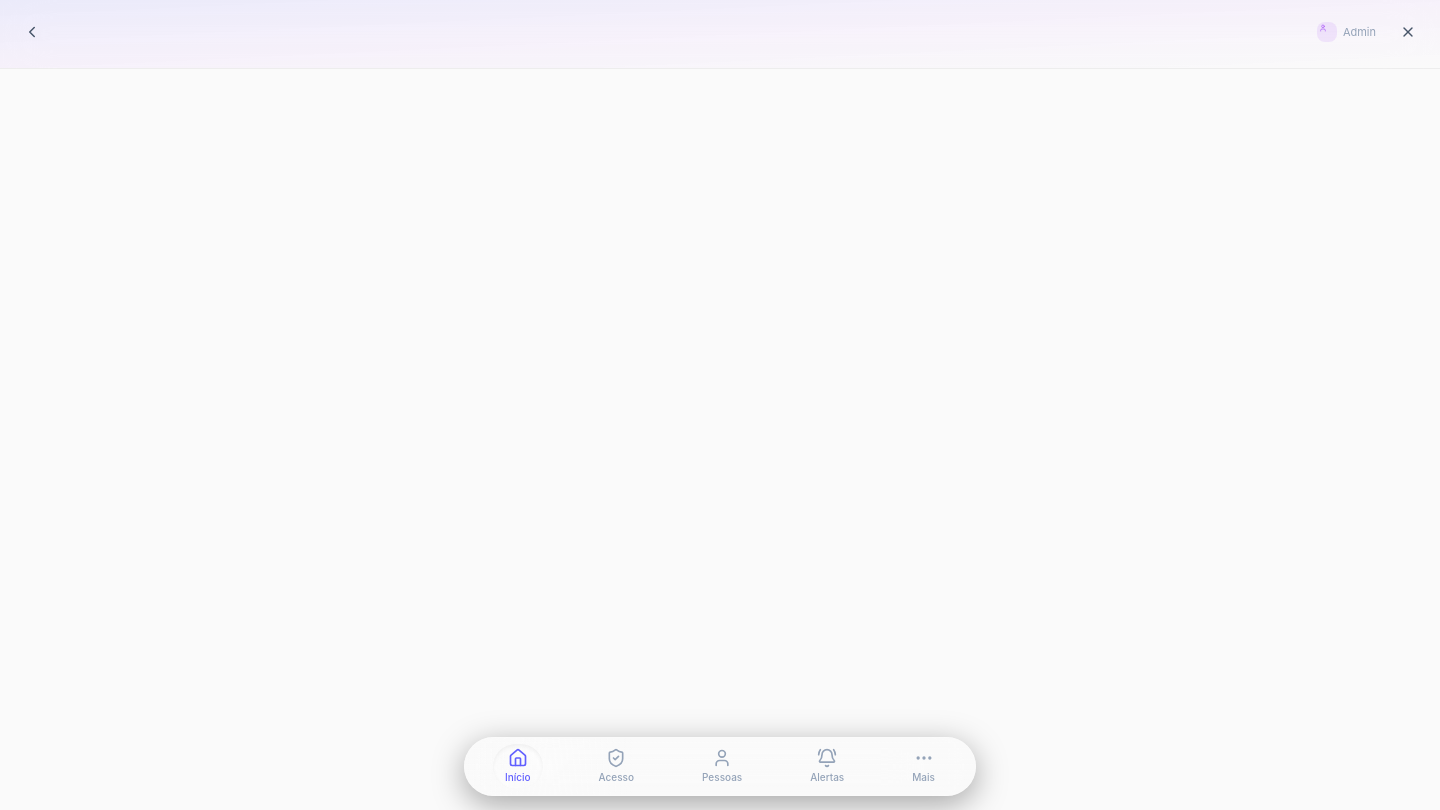
Test: AdminLayout › o menu Alertas lista Notificações e Auditoria
Click the button labelled "Alertas" at {"x": 827, "y": 766}, box x1=798 y1=744 x2=856 y2=789
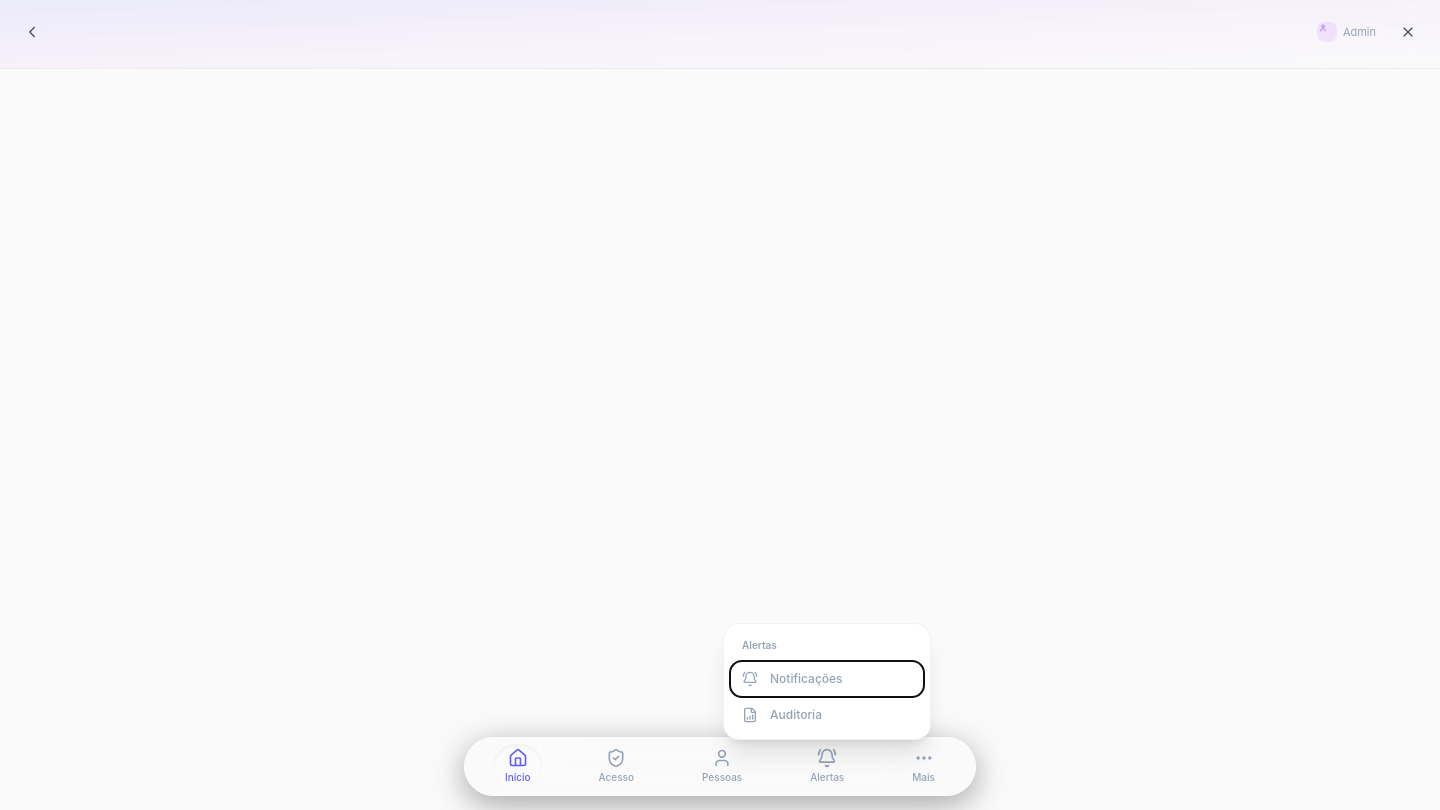
Expected: the text "Notificações" is shown, x1=770 y1=671 x2=843 y2=687
Expected: the text "Auditoria" is shown, x1=770 y1=707 x2=822 y2=723
